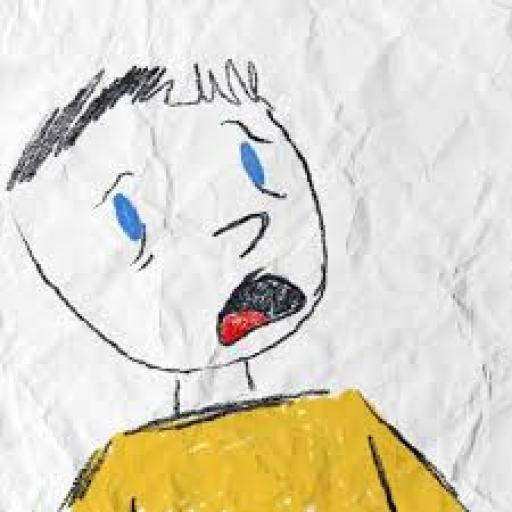person: (7, 62, 327, 391)
